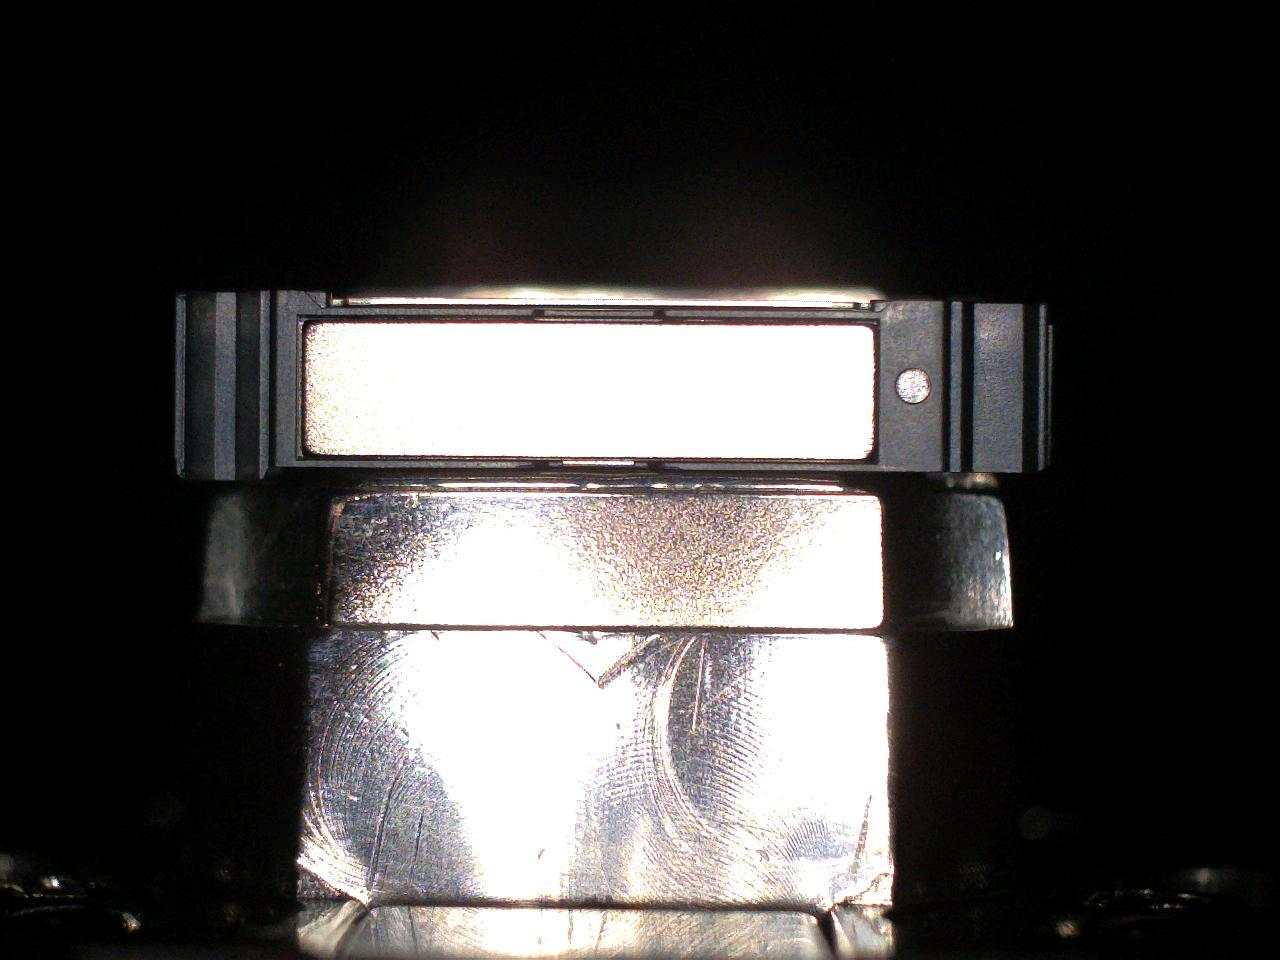frame: (175, 289, 1052, 481), (543, 311, 654, 316)
gap: (298, 315, 533, 323), (664, 317, 880, 325), (306, 455, 534, 461), (663, 458, 874, 464), (543, 316, 655, 323), (550, 457, 649, 462)
magnetic: (305, 323, 874, 459)
